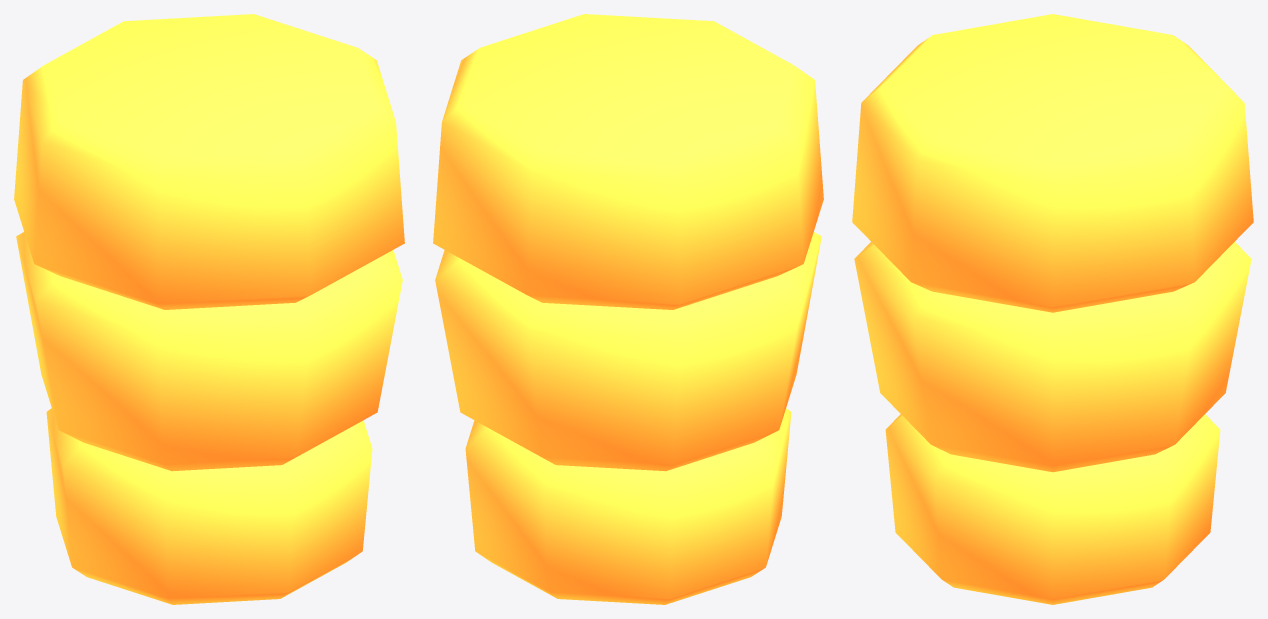
The model's file is gold_grip_008.glb.
3 views of the same model, side by side, from view 1: azimuth 30°, elevation 25°; view 2: azimuth 150°, elevation 25°; view 3: azimuth 270°, elevation 25° (orthographic).
Parts seen in each view (by area): view 1: gold_grip_008; view 2: gold_grip_008; view 3: gold_grip_008.
Boxes of the visible parts, left/top/right/bottom form: gold_grip_008: left=14, top=14, right=404, bottom=604; gold_grip_008: left=433, top=14, right=823, bottom=604; gold_grip_008: left=852, top=14, right=1253, bottom=604.
Bounding box in the file's own units: 2.37 × 3 × 2.37.
Materials: 1 (1 with a texture image).
